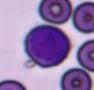L: (24, 24, 72, 68)
